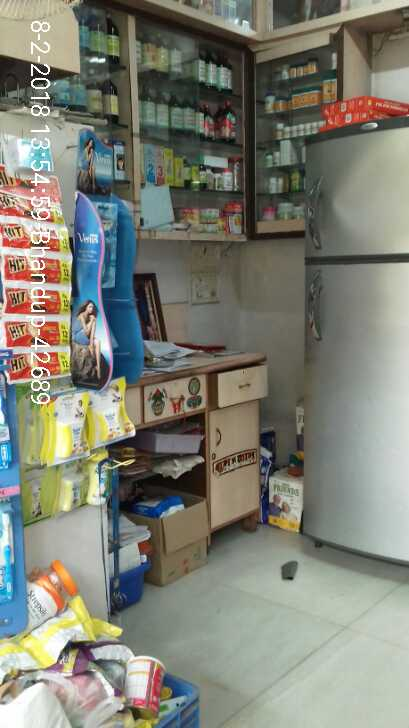reject: (94, 206, 185, 372)
